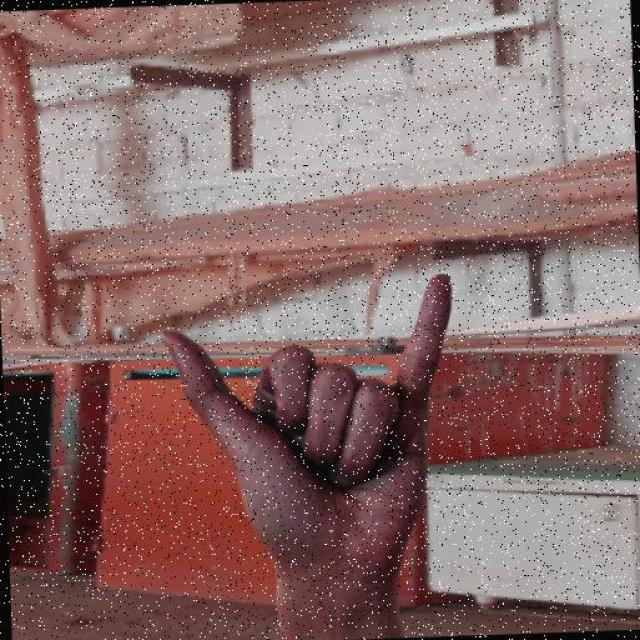Y: (154, 269, 467, 596)
